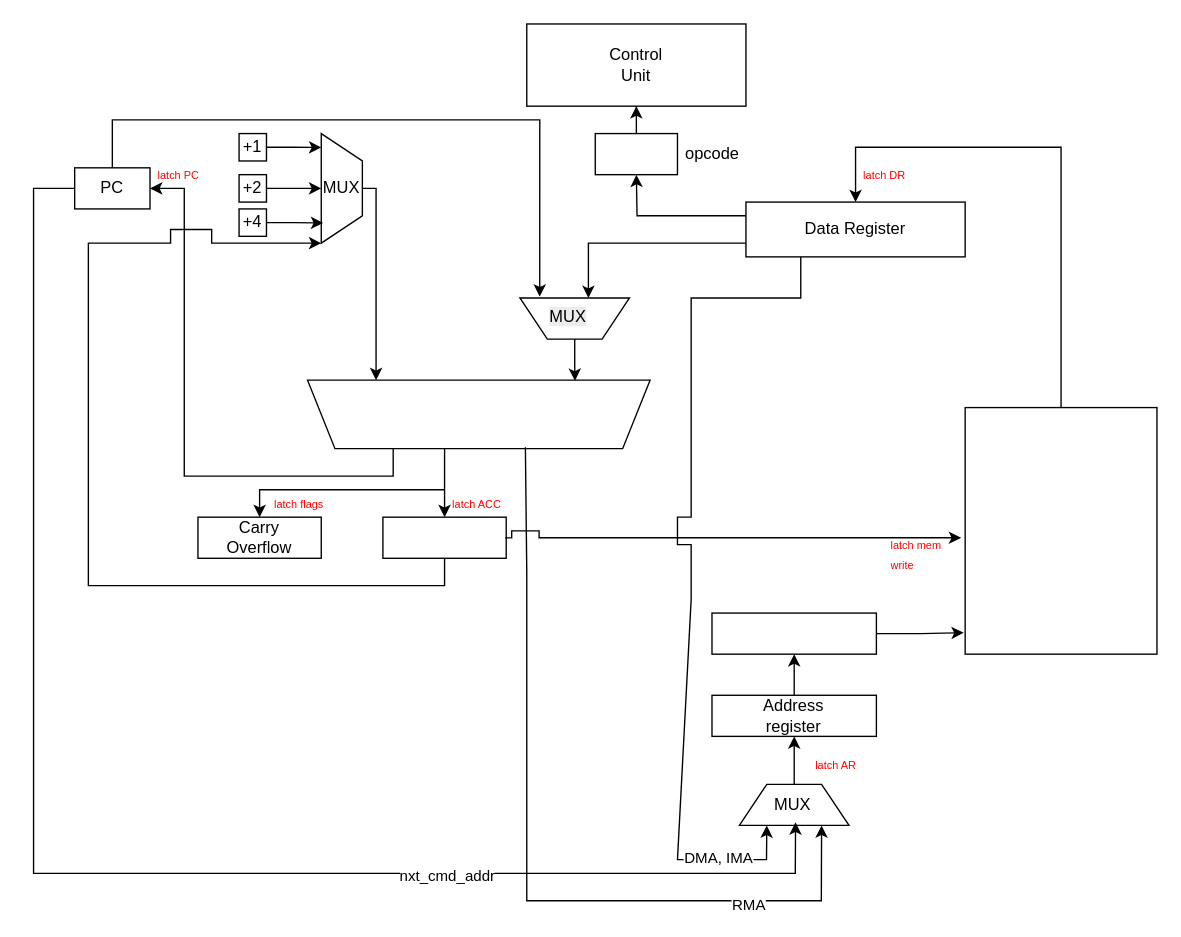
The diagram is 1181 pixels wide and 937 high, and some of its shapes have lost their labels. The centre of each missing label's shape, as x and y in pixels:
"&FF00" belongs at point (635, 153).
"ACC" belongs at point (444, 537).
"Address decoder" belongs at point (793, 633).
"Memory" belongs at point (1060, 530).
"АЛУ" belongs at point (478, 414).
